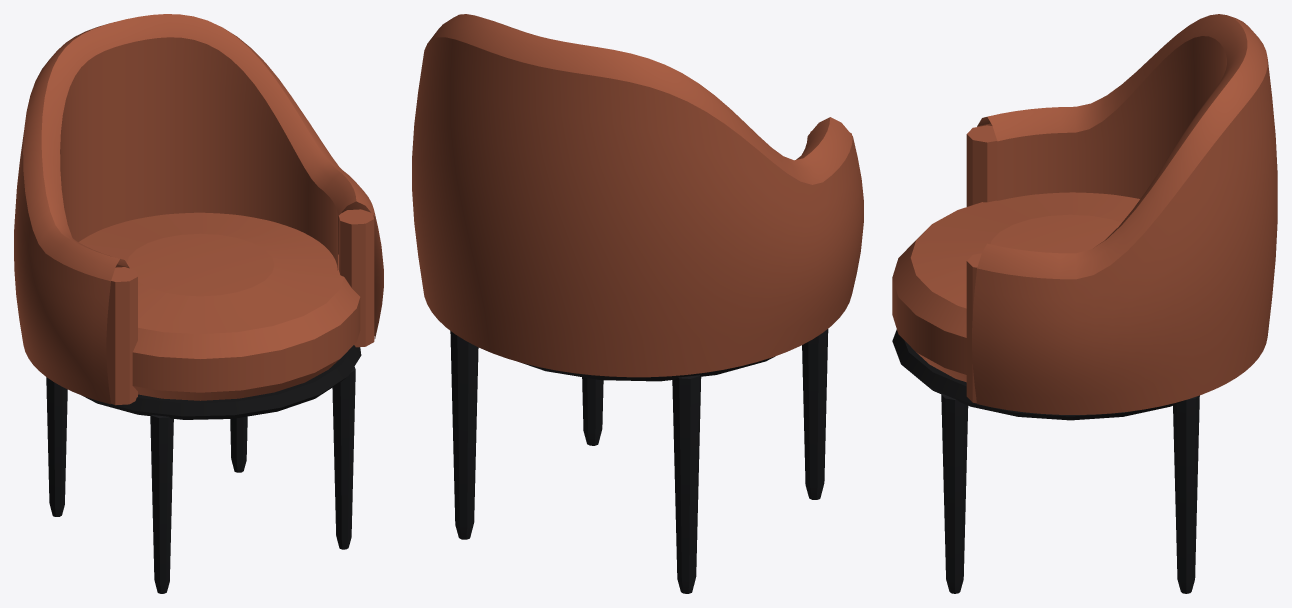
The model's file is tub_terra.glb.
3 renders of one model, left to right at view 1: azimuth 30°, elevation 25°; view 2: azimuth 150°, elevation 25°; view 3: azimuth 270°, elevation 25°, orthographic. The views are drawn at different scales.
Parts seen in each view (by area): view 1: tub_terra; view 2: tub_terra; view 3: tub_terra.
Part boxes in pixels (x1,y1,x2,y2): tub_terra: [14, 14, 383, 593]; tub_terra: [412, 14, 863, 593]; tub_terra: [892, 14, 1277, 593].
Bounding box in the file's own units: 0.5992 × 0.808 × 0.5663.
